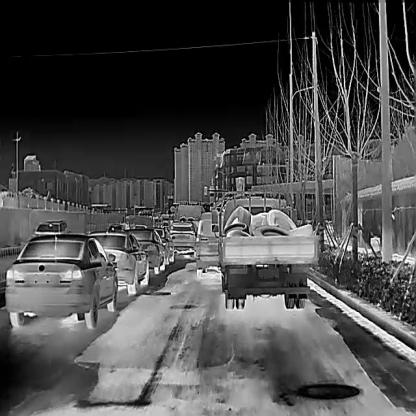car: (3, 229, 120, 328), (86, 228, 149, 297), (125, 226, 167, 274), (197, 209, 223, 277), (168, 220, 197, 258), (31, 217, 69, 242), (154, 226, 177, 264), (104, 221, 128, 232)
truck: (209, 186, 322, 309)
